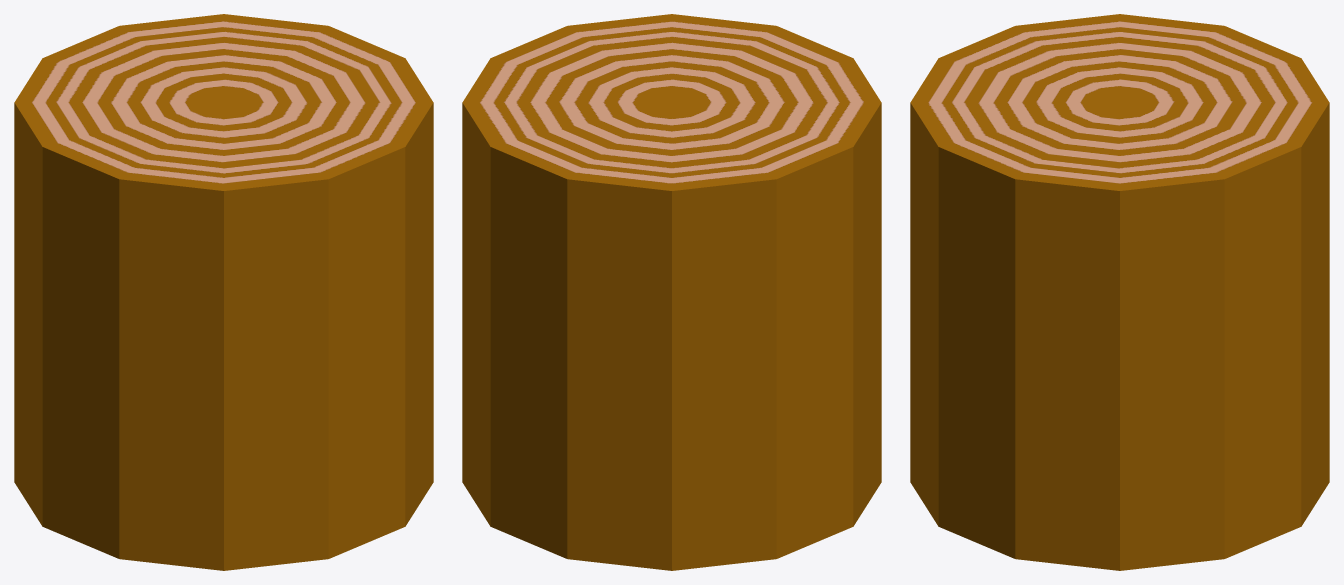
The model's file is batang pohon.fbx.
3 views of the same model, side by side, from view 1: azimuth 30°, elevation 25°; view 2: azimuth 150°, elevation 25°; view 3: azimuth 270°, elevation 25° (orthographic).
Parts seen in each view (by area): view 1: Cube.008; view 2: Cube.008; view 3: Cube.008.
Boxes of the visible parts, box(x1,y1,x2,y2) form: Cube.008: box(14, 14, 433, 570); Cube.008: box(462, 14, 881, 570); Cube.008: box(910, 14, 1329, 570).
Size of the model in its own units: 100 by 100 by 100.
Materials: 1 (1 with a texture image).
